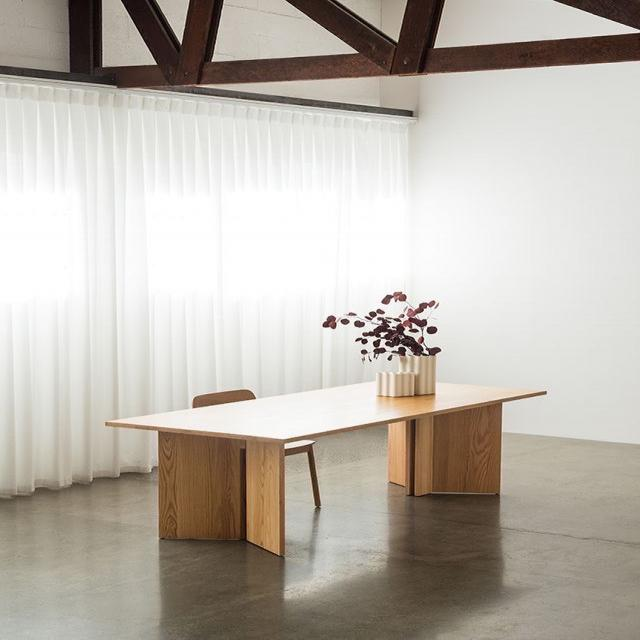table: (86, 351, 603, 571)
